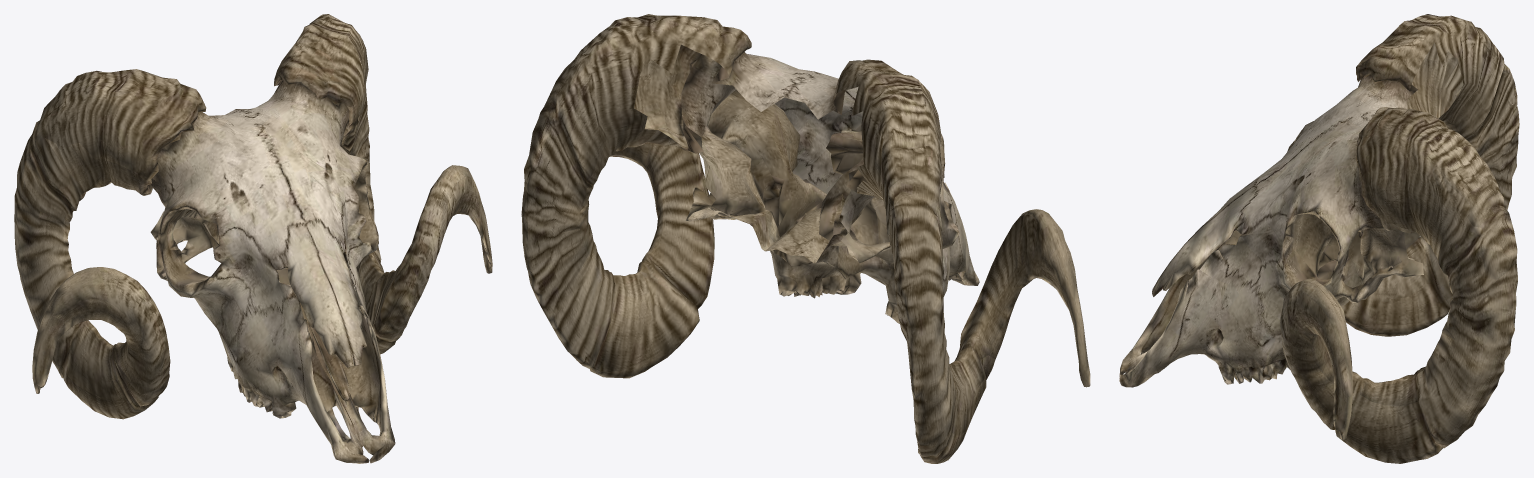
Rendered from skull.glb.
3 renders of one model, left to right at view 1: azimuth 30°, elevation 25°; view 2: azimuth 150°, elevation 25°; view 3: azimuth 270°, elevation 25°, orthographic. The views are drawn at different scales.
Visible parts, largest first — view 1: skull; view 2: skull; view 3: skull.
Boxes of the visible parts, left/top/right/bottom form: skull: left=14, top=14, right=492, bottom=463; skull: left=521, top=14, right=1090, bottom=463; skull: left=1119, top=14, right=1519, bottom=463.
Bounding box in the file's own units: 0.586 × 0.3963 × 0.433.
1 material, 1 textured.
